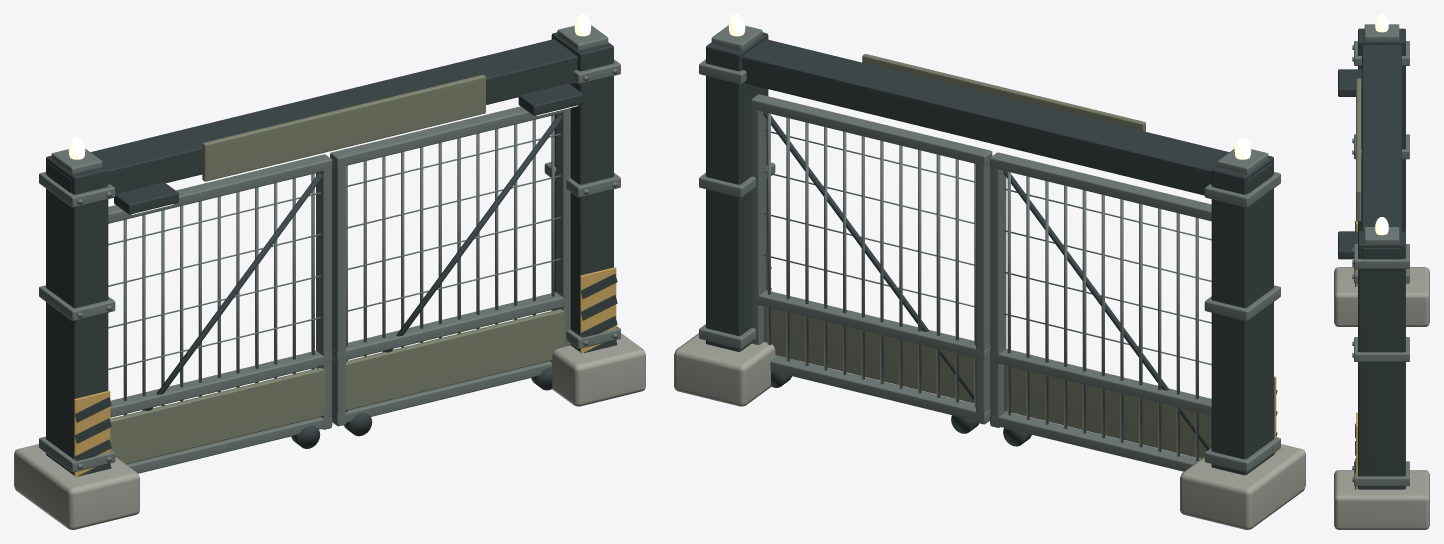
Rendered from security_gate.glb.
3 views of the same model, side by side, from view 1: azimuth 30°, elevation 25°; view 2: azimuth 150°, elevation 25°; view 3: azimuth 270°, elevation 25° (orthographic). The views are drawn at different scales.
Visible parts, largest first — view 1: GateFrame, GateRight, GateLeft; view 2: GateFrame, GateRight, GateLeft; view 3: GateFrame.
Boxes of the visible parts, <box> form: GateFrame: <box>14,14,645,529</box>; GateRight: <box>330,106,570,436</box>; GateLeft: <box>108,154,332,473</box>; GateFrame: <box>674,14,1305,529</box>; GateRight: <box>751,94,992,433</box>; GateLeft: <box>990,152,1211,471</box>; GateFrame: <box>1334,14,1429,529</box>.
Bounding box in the file's own units: 8 × 4.83 × 1.4.
